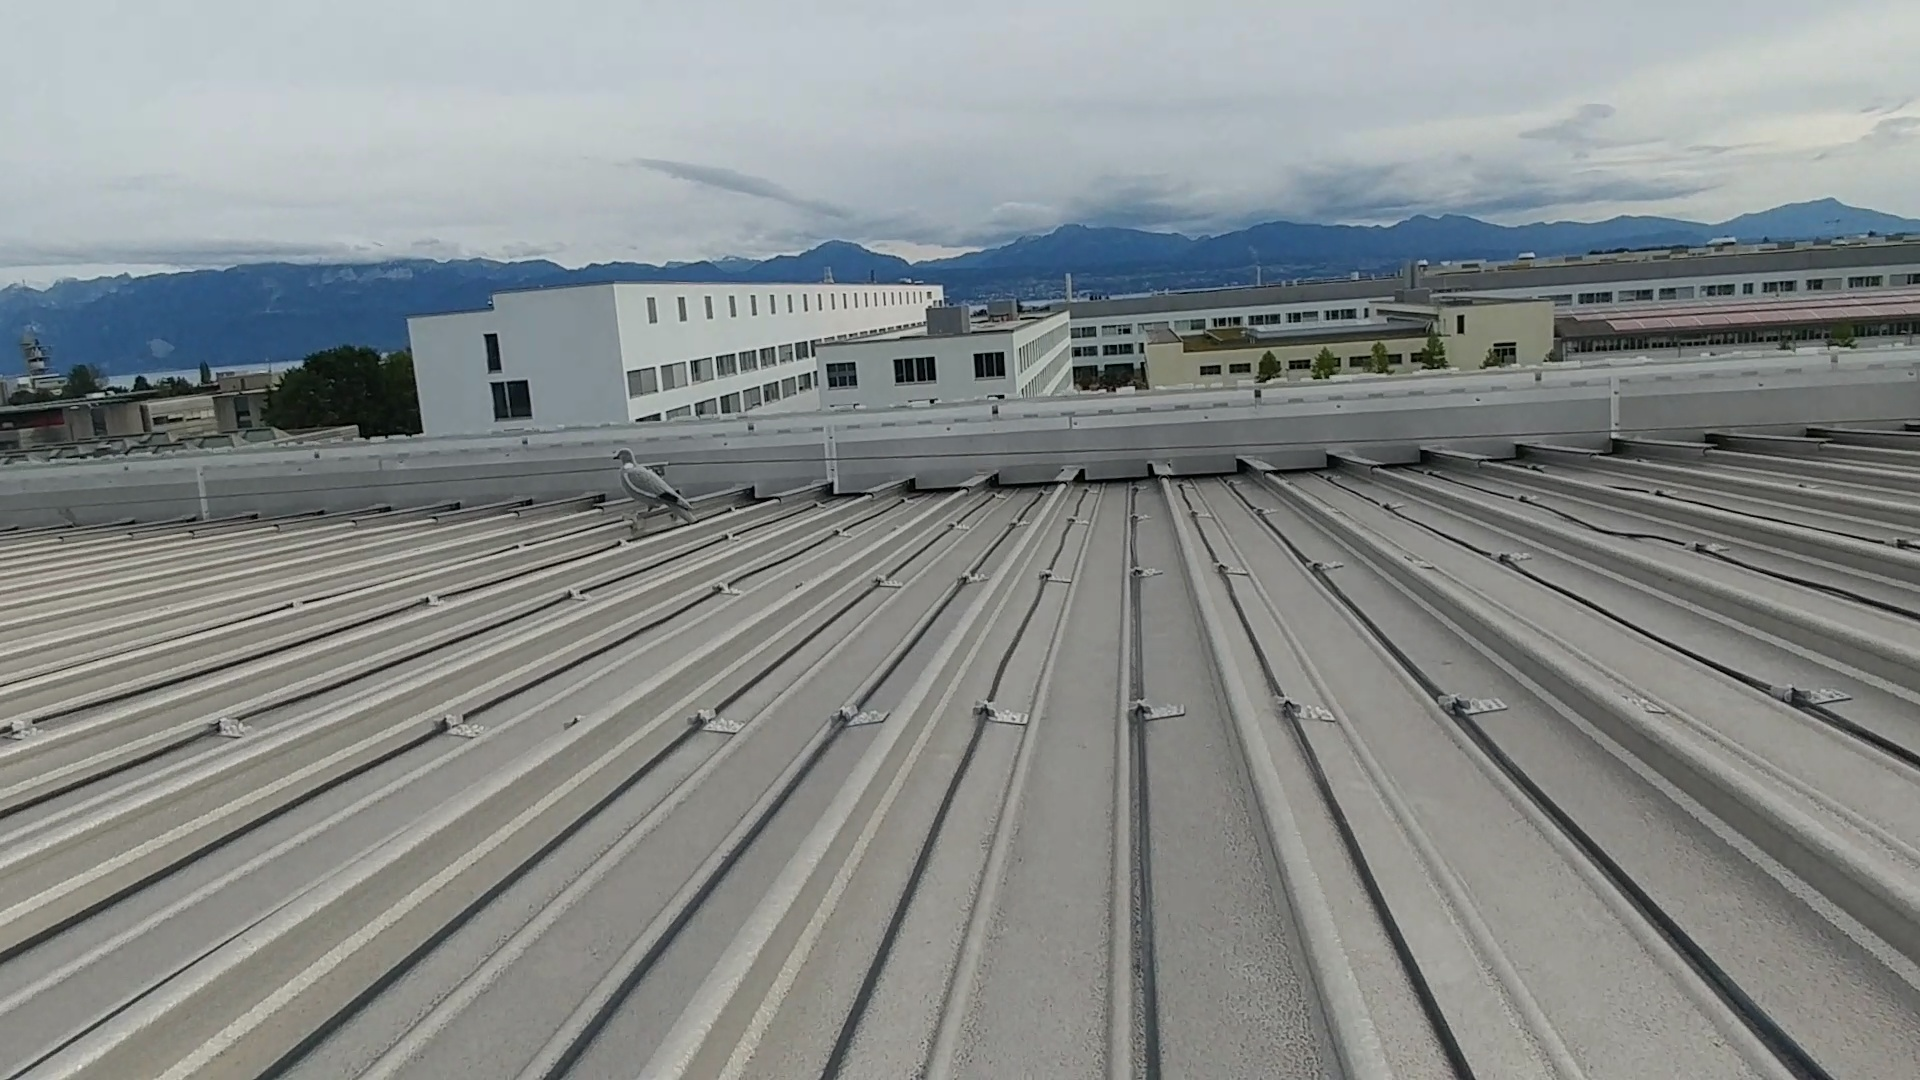Pigeon: (611, 447, 694, 524)
